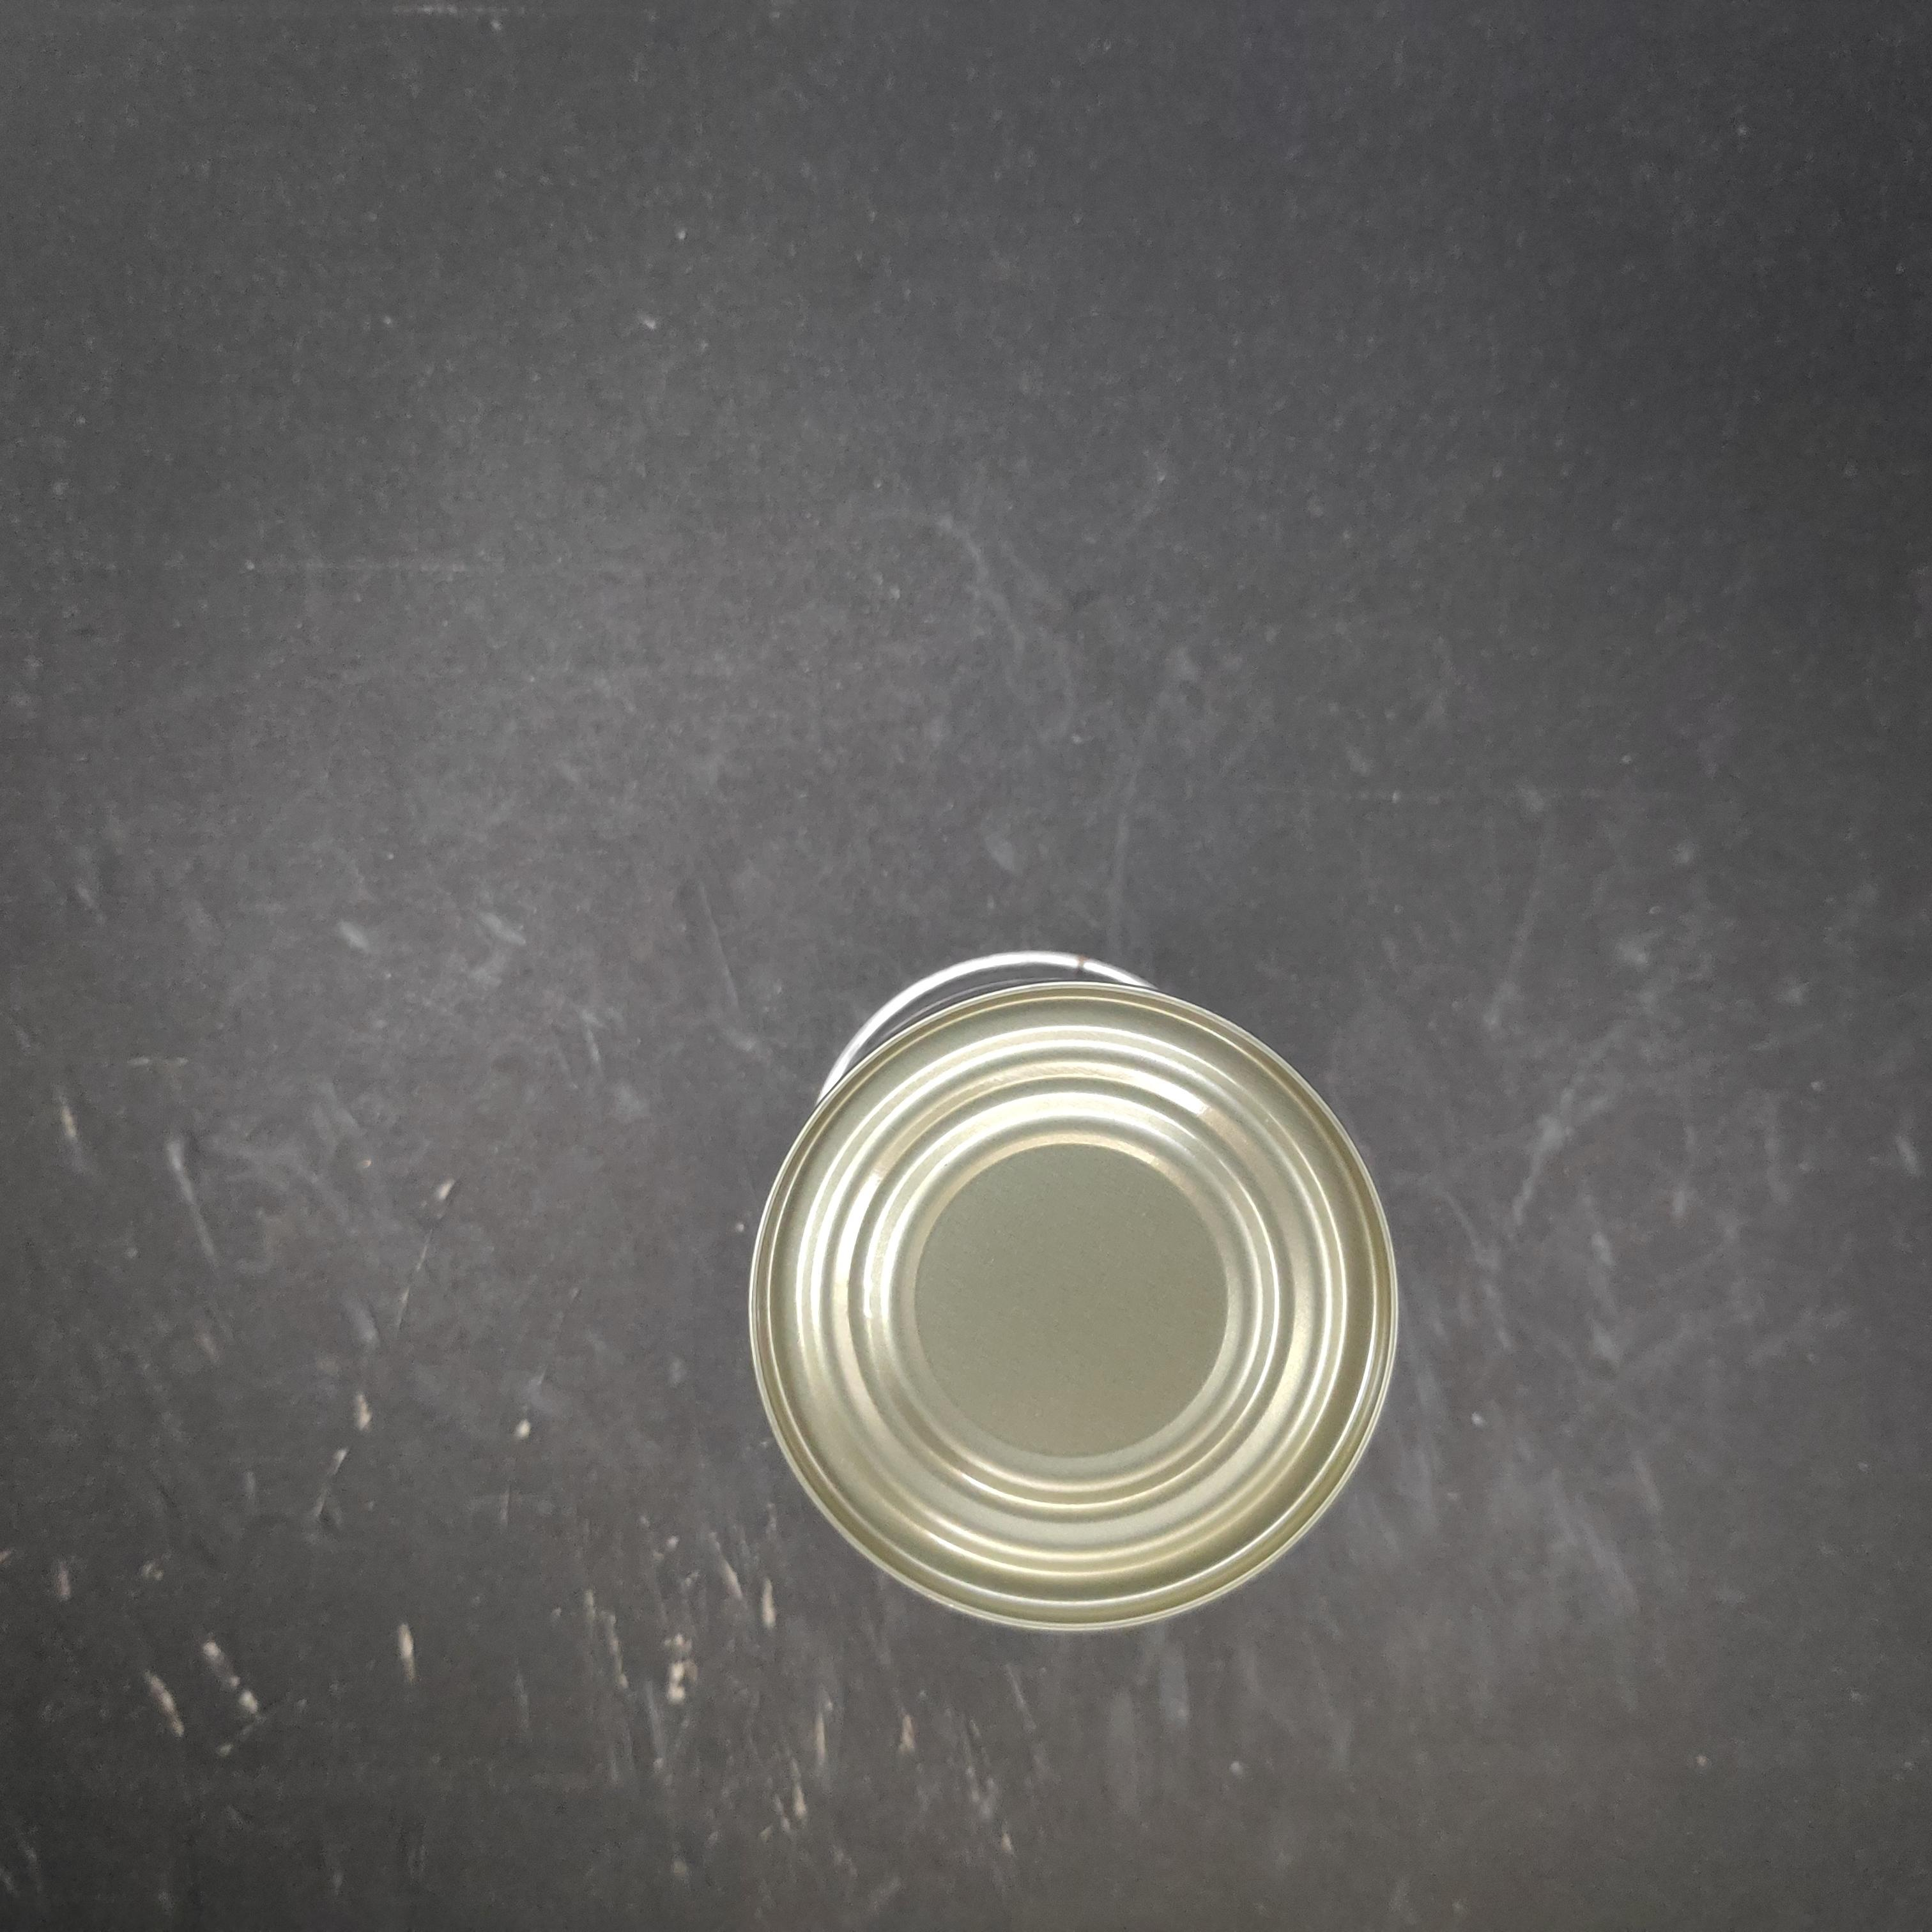No defect: (975, 511, 1642, 1198)
